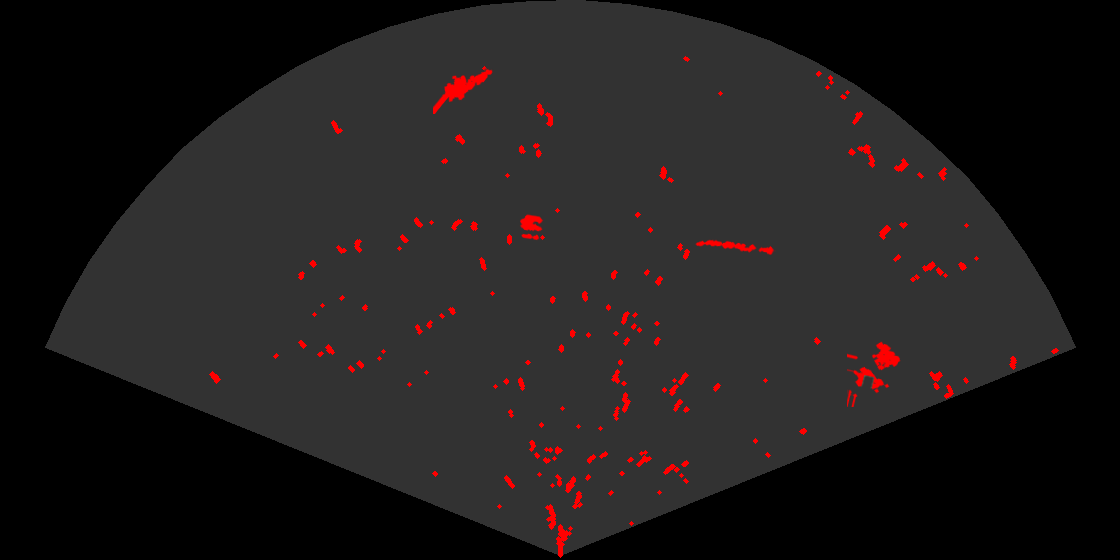ball: (518, 213, 545, 242)
cage: (847, 340, 902, 407)
chain: (694, 238, 776, 256)
frogman: (433, 67, 494, 114)
